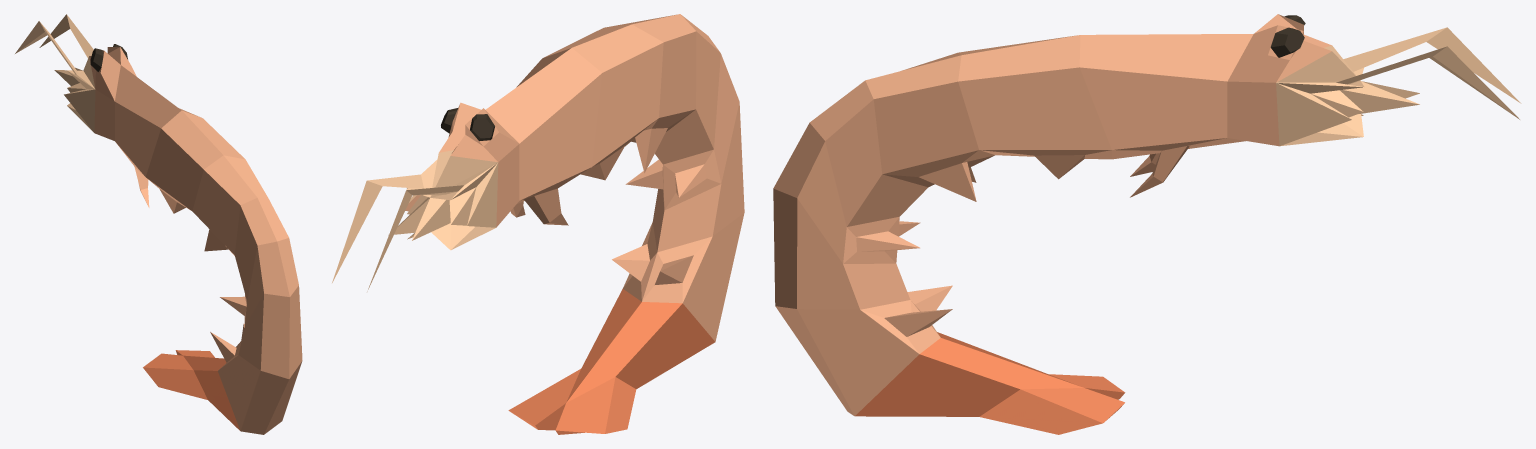
The model's file is ShrimpCooked.glb.
3 views of the same model, side by side, from view 1: azimuth 30°, elevation 25°; view 2: azimuth 150°, elevation 25°; view 3: azimuth 270°, elevation 25° (orthographic). The views are drawn at different scales.
Parts seen in each view (by area): view 1: EXPORT_cooked_shrimp; view 2: EXPORT_cooked_shrimp; view 3: EXPORT_cooked_shrimp.
Boxes of the visible parts, bbox=[...] form: EXPORT_cooked_shrimp: bbox=[15, 14, 302, 434]; EXPORT_cooked_shrimp: bbox=[332, 14, 744, 434]; EXPORT_cooked_shrimp: bbox=[773, 14, 1521, 434].
Size of the model in its own units: 0.0385 by 0.1516 by 0.2608.
